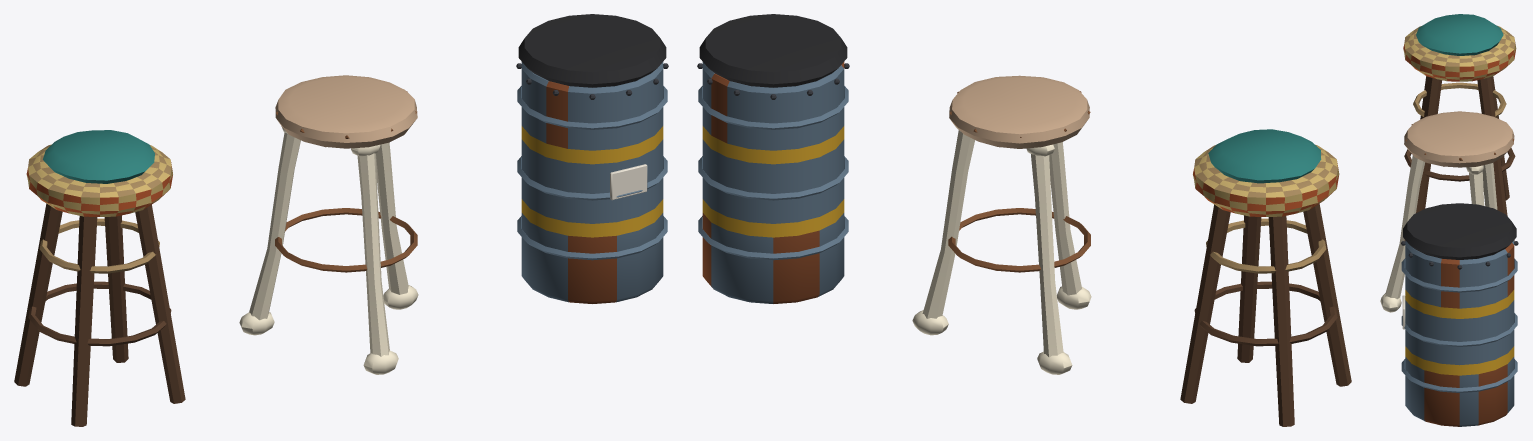
The model's file is deco_bar_stools.fbx.
3 views of the same model, side by side, from view 1: azimuth 30°, elevation 25°; view 2: azimuth 150°, elevation 25°; view 3: azimuth 270°, elevation 25° (orthographic). The views are drawn at different scales.
Parts seen in each view (by area): view 1: BarStools_StoolDrum, BarStools_StoolWoven, BarStools_StoolBone; view 2: BarStools_StoolDrum, BarStools_StoolWoven, BarStools_StoolBone; view 3: BarStools_StoolDrum, BarStools_StoolWoven, BarStools_StoolBone.
Boxes of the visible parts, x1,y1,x2,y2 form: BarStools_StoolDrum: (516,14,668,303); BarStools_StoolWoven: (14,130,185,426); BarStools_StoolBone: (239,75,418,374); BarStools_StoolDrum: (697,14,849,303); BarStools_StoolWoven: (1180,129,1351,426); BarStools_StoolBone: (912,75,1091,374); BarStools_StoolDrum: (1401,203,1518,426); BarStools_StoolWoven: (1403,14,1516,215); BarStools_StoolBone: (1380,111,1514,312).
Size of the model in its own units: 240 by 92.66 by 59.92.
